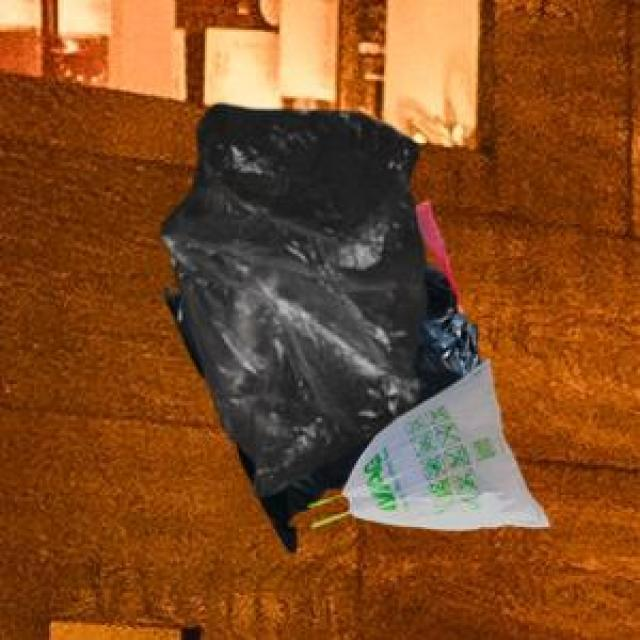miscellaneous trash: (160, 198, 478, 548)
